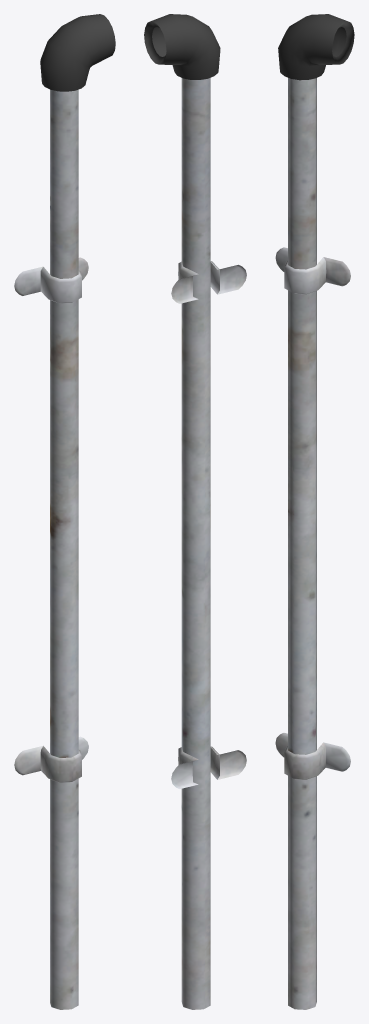
File: SM_Pipe_100_Angled_01a.glb
3 views of the same model, side by side, from view 1: azimuth 30°, elevation 25°; view 2: azimuth 210°, elevation 25°; view 3: azimuth 330°, elevation 25° (orthographic).
Parts seen in each view (by area): view 1: SM_Pipe_100_Angled_01a; view 2: SM_Pipe_100_Angled_01a; view 3: SM_Pipe_100_Angled_01a.
Boxes of the visible parts, box(x1,y1,x2,y2) form: SM_Pipe_100_Angled_01a: box(14, 14, 115, 1009); SM_Pipe_100_Angled_01a: box(144, 14, 246, 1009); SM_Pipe_100_Angled_01a: box(275, 14, 354, 1009).
Size of the model in its own units: 0.0862 by 1.02 by 0.0482.
Materials: 1 (1 with a texture image).
